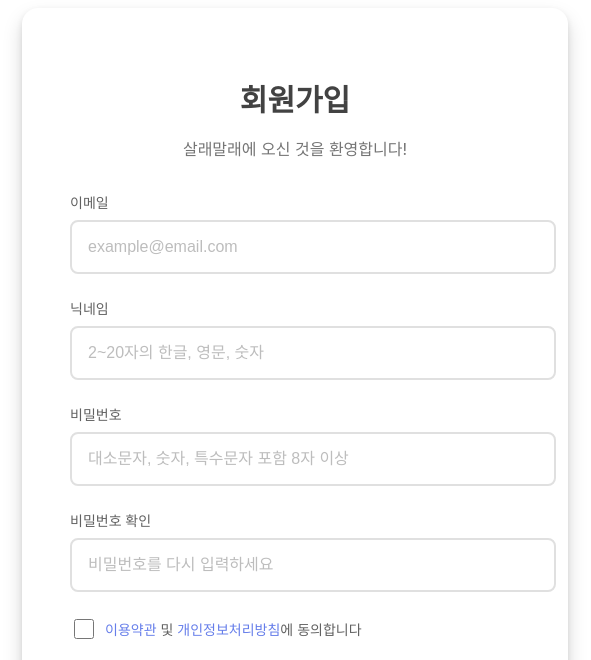
Test case: Validation Message Display › RegisterForm › 비밀번호 확인이 일치하지 않을 때 에러를 표시해야 함
In the password field labelled "비밀번호": (313, 459) [70,432,556,486], type "Password123!"
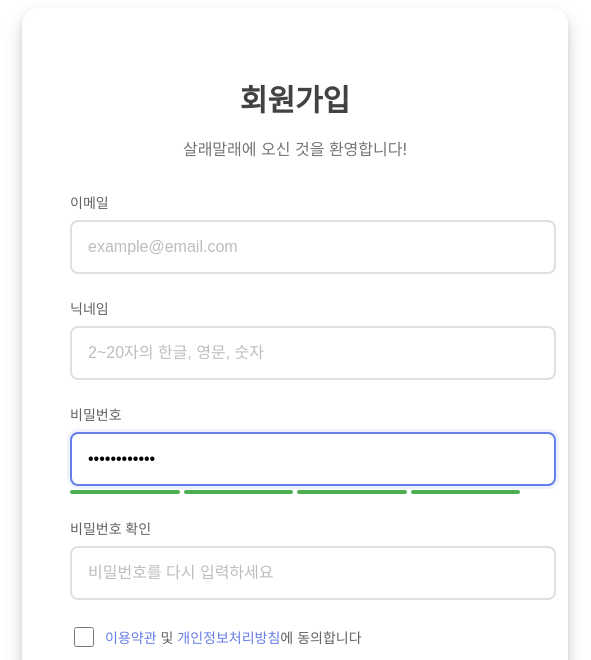
In the password field labelled "비밀번호 확인": (313, 573) [70,546,556,600], type "Different123!"
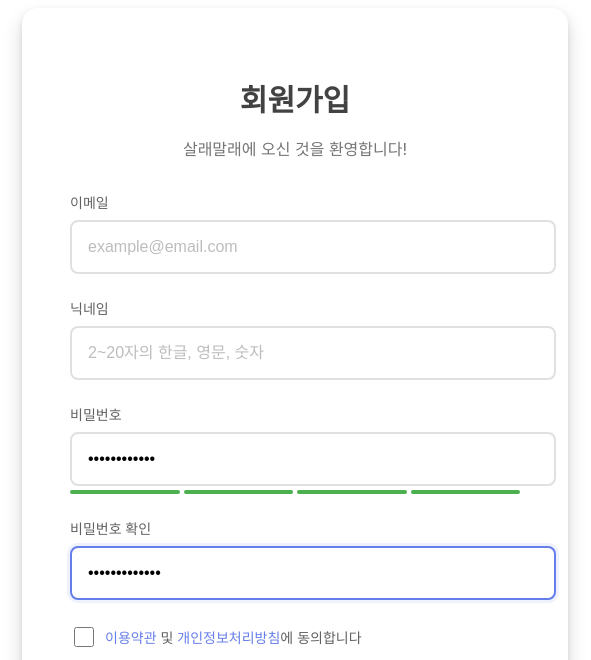
Leave the password field labelled "비밀번호 확인", box [70,546,556,600]
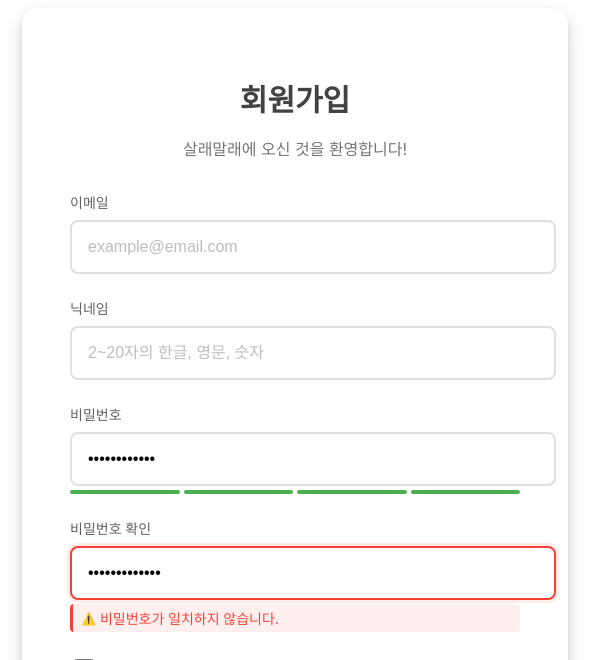
Check: the message reads "비밀번호가 일치하지 않습니다.", box [100,610,279,627]
